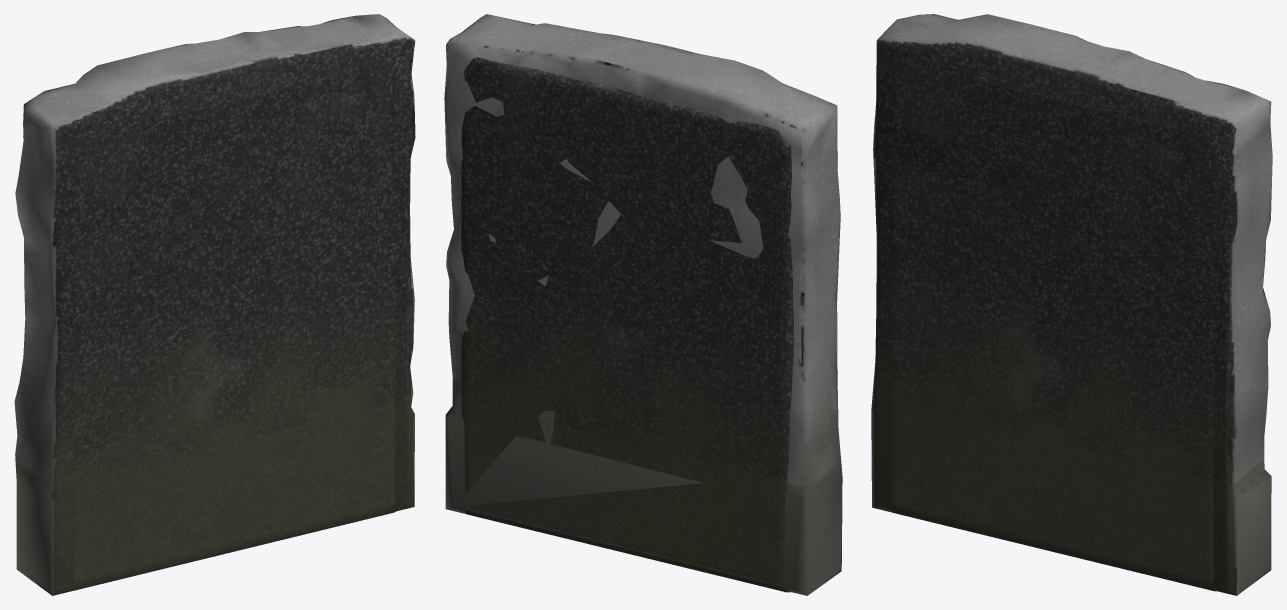
The model's file is lawnSquare.glb.
The picture shows the model from 3 angles, left to right: view 1: azimuth 30°, elevation 25°; view 2: azimuth 150°, elevation 25°; view 3: azimuth 330°, elevation 25°; orthographic projection.
Parts seen in each view (by area): view 1: lawnSquare_a, lawnSquare_b; view 2: lawnSquare_a, lawnSquare_b; view 3: lawnSquare_a, lawnSquare_b.
Part boxes in pixels (box(x1,y1,x2,y2)): lawnSquare_a: box(72, 65, 397, 590); lawnSquare_b: box(14, 14, 415, 595); lawnSquare_a: box(461, 57, 793, 592); lawnSquare_b: box(444, 14, 842, 595); lawnSquare_a: box(891, 60, 1218, 591); lawnSquare_b: box(871, 14, 1272, 595).
Size of the model in its own units: 0.5099 by 0.6426 by 0.0938.
Materials: 2 (2 with a texture image).
